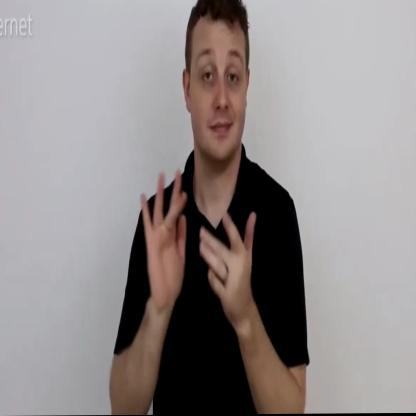Internet: (107, 0, 312, 415)
